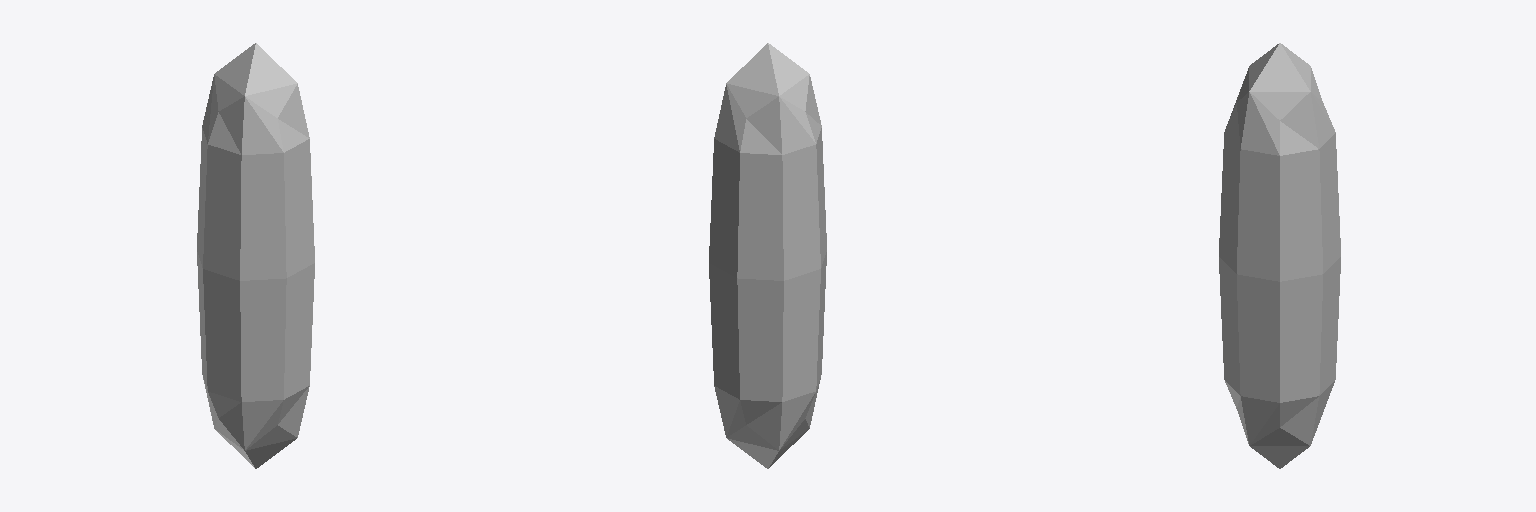
File: bullet.obj
The picture shows the model from 3 angles: view 1: azimuth 30°, elevation 25°; view 2: azimuth 150°, elevation 25°; view 3: azimuth 270°, elevation 25°; orthographic projection.
Visible parts, largest first — view 1: Cube; view 2: Cube; view 3: Cube.
Part boxes in pixels (left/top/right/bottom): Cube: left=197, top=43, right=314, bottom=468; Cube: left=709, top=43, right=826, bottom=468; Cube: left=1219, top=43, right=1340, bottom=468.
Bounding box in the file's own units: 2.01 × 7.71 × 2.01.